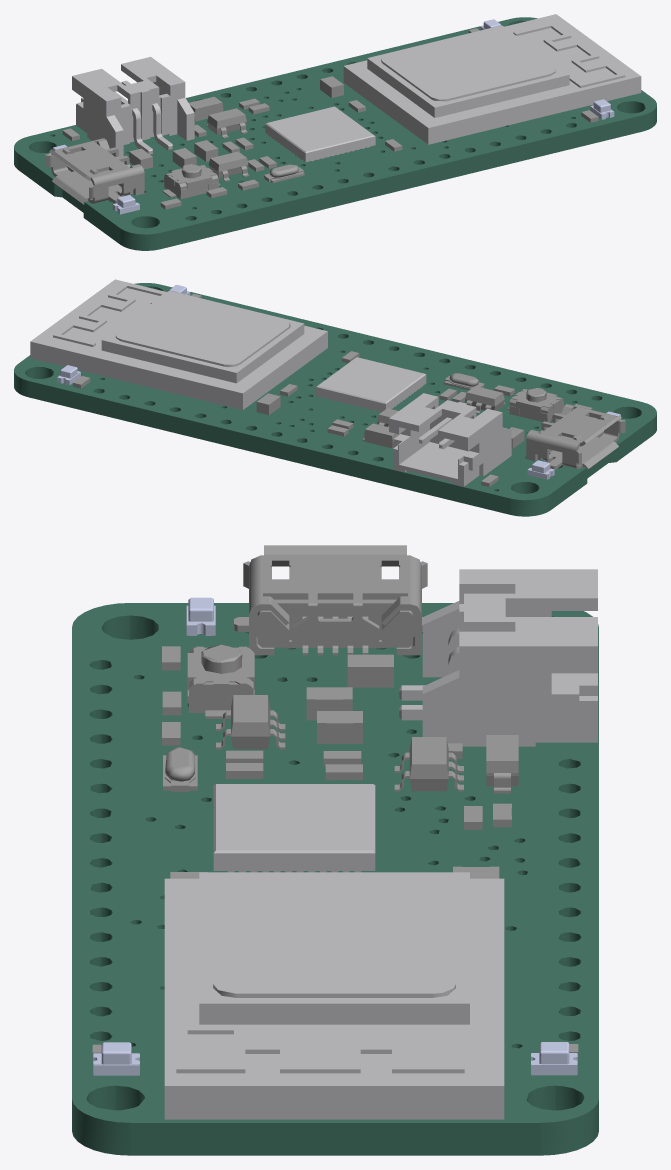
File: ada-3010.glb
3 views of the same model, one above another, from view 1: azimuth 30°, elevation 25°; view 2: azimuth 150°, elevation 25°; view 3: azimuth 270°, elevation 25° (orthographic). The views are drawn at different scales.
Parts seen in each view (by area): view 1: 0.08333333333333333_0.16666666666666666_0.16666666666666666_, 0.5833333333333334_0.5833333333333334_0.5833333333333334_0.8, 0.3333333333333333_0.3333333333333333_0.3333333333333333_0, 0.5833333333333334_0.6666666666666666_0.8333333333333334_0; view 2: 0.08333333333333333_0.16666666666666666_0.16666666666666666_, 0.5833333333333334_0.5833333333333334_0.5833333333333334_0.8, 0.3333333333333333_0.3333333333333333_0.3333333333333333_0, 0.5833333333333334_0.6666666666666666_0.8333333333333334_0; view 3: 0.08333333333333333_0.16666666666666666_0.16666666666666666_, 0.5833333333333334_0.5833333333333334_0.5833333333333334_0.8, 0.3333333333333333_0.3333333333333333_0.3333333333333333_0, 0.5833333333333334_0.6666666666666666_0.8333333333333334_0.
Part boxes in pixels (<box>): 0.08333333333333333_0.16666666666666666_0.16666666666666666_: <box>14,17,656,250</box>; 0.5833333333333334_0.5833333333333334_0.5833333333333334_0.8: <box>72,14,641,162</box>; 0.3333333333333333_0.3333333333333333_0.3333333333333333_0: <box>45,28,598,209</box>; 0.5833333333333334_0.6666666666666666_0.8333333333333334_0: <box>48,19,614,214</box>; 0.08333333333333333_0.16666666666666666_0.16666666666666666_: <box>14,283,656,516</box>; 0.5833333333333334_0.5833333333333334_0.5833333333333334_0.8: <box>30,279,511,486</box>; 0.3333333333333333_0.3333333333333333_0.3333333333333333_0: <box>73,293,625,486</box>; 0.5833333333333334_0.6666666666666666_0.8333333333333334_0: <box>57,285,621,479</box>; 0.08333333333333333_0.16666666666666666_0.16666666666666666_: <box>72,603,598,1155</box>; 0.5833333333333334_0.5833333333333334_0.5833333333333334_0.8: <box>164,569,597,1119</box>; 0.3333333333333333_0.3333333333333333_0.3333333333333333_0: <box>92,545,578,1060</box>; 0.5833333333333334_0.6666666666666666_0.8333333333333334_0: <box>93,597,577,1075</box>.
Size of the model in its own units: 5.35 by 0.637 by 2.29.
